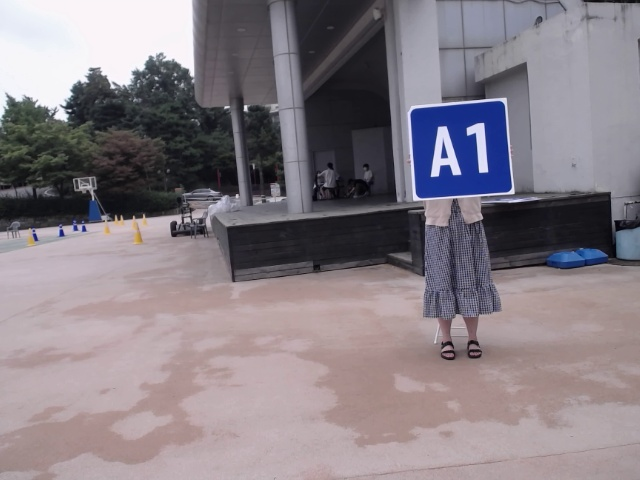delivery_a1: (408, 98, 513, 200)
